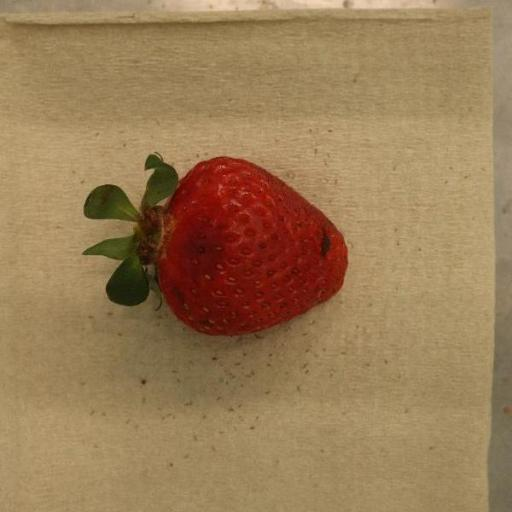Strawberry: (83, 153, 349, 337)
